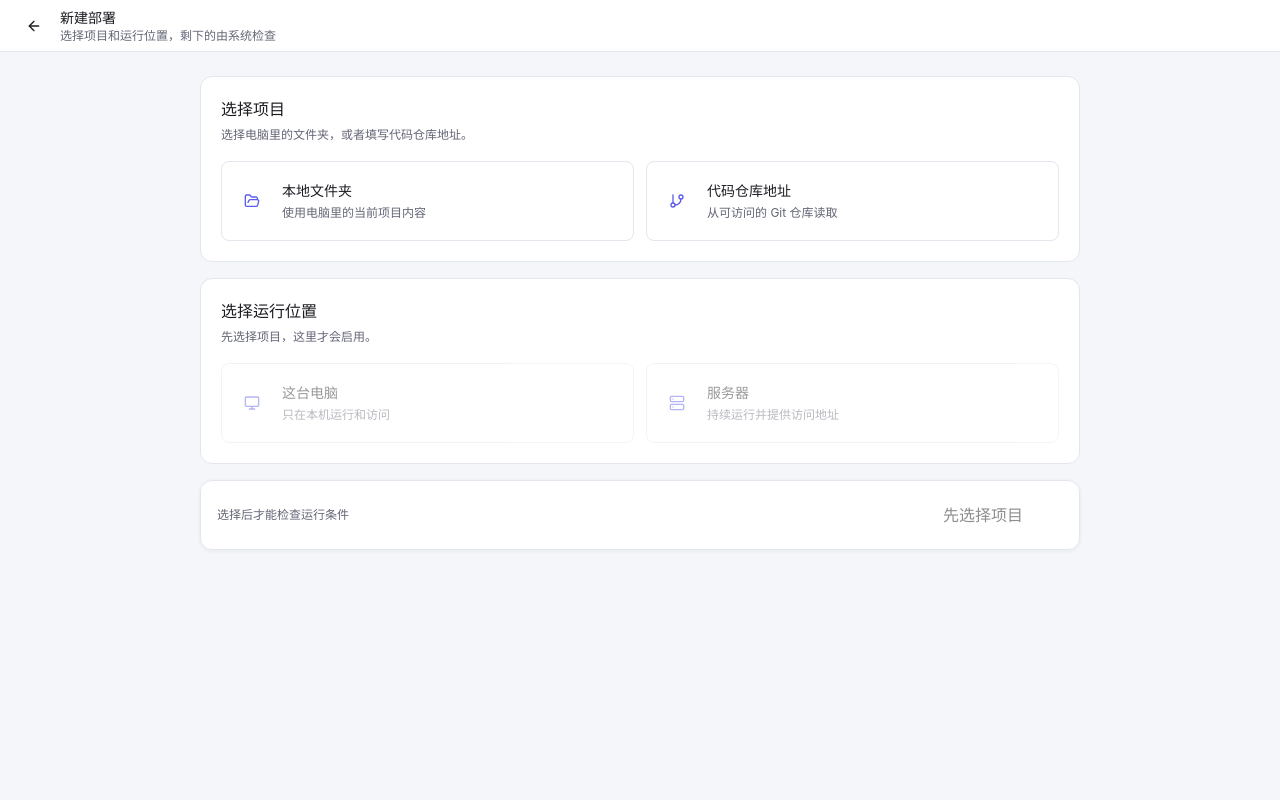
Test: DeploymentEditorController › 服务器只有经过真实环境解析后才允许准备上线任务
Click the button "本地文件夹 使用电脑里的当前项目内容" at (252, 201), box [221,161,634,241]
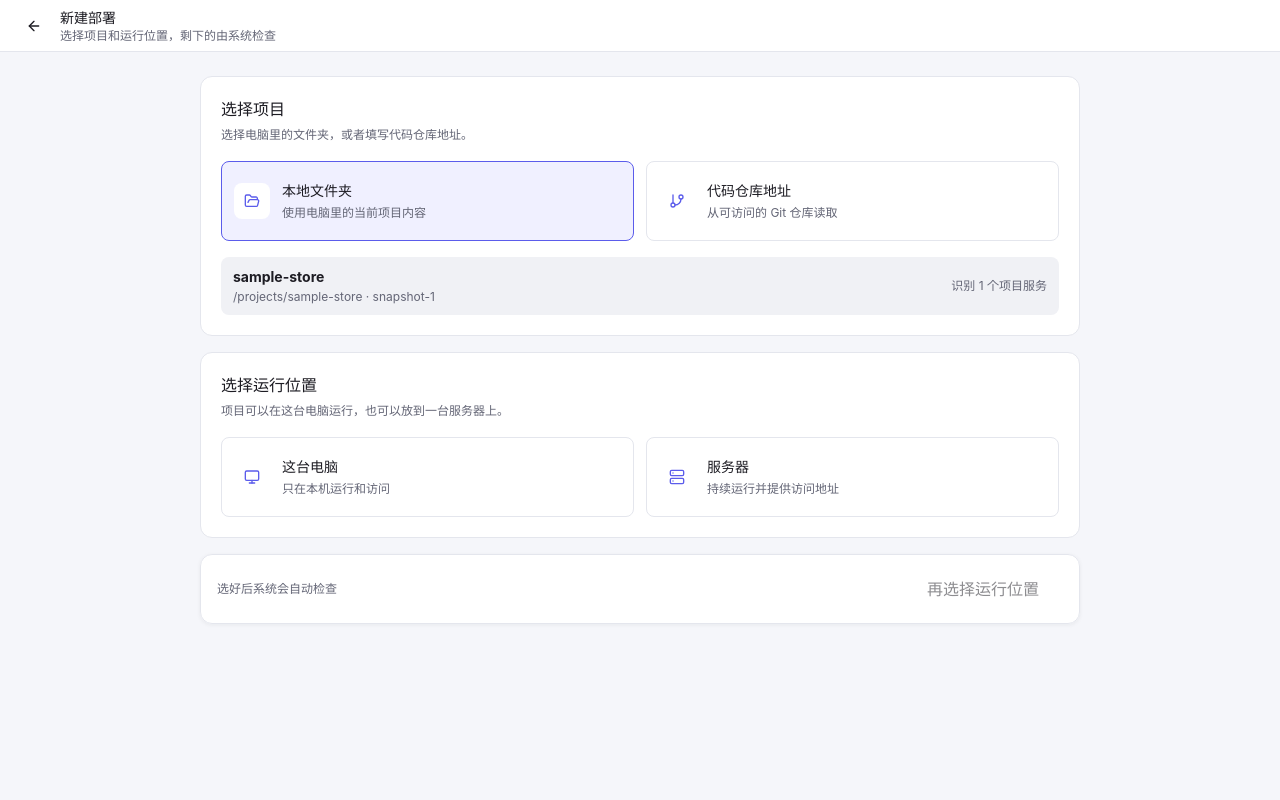
Result: the text "/projects/sample-store" is shown at [233,289,435,304]
Click the button "服务器 持续运行并提供访问地址" at (677, 477), box [646,437,1059,517]
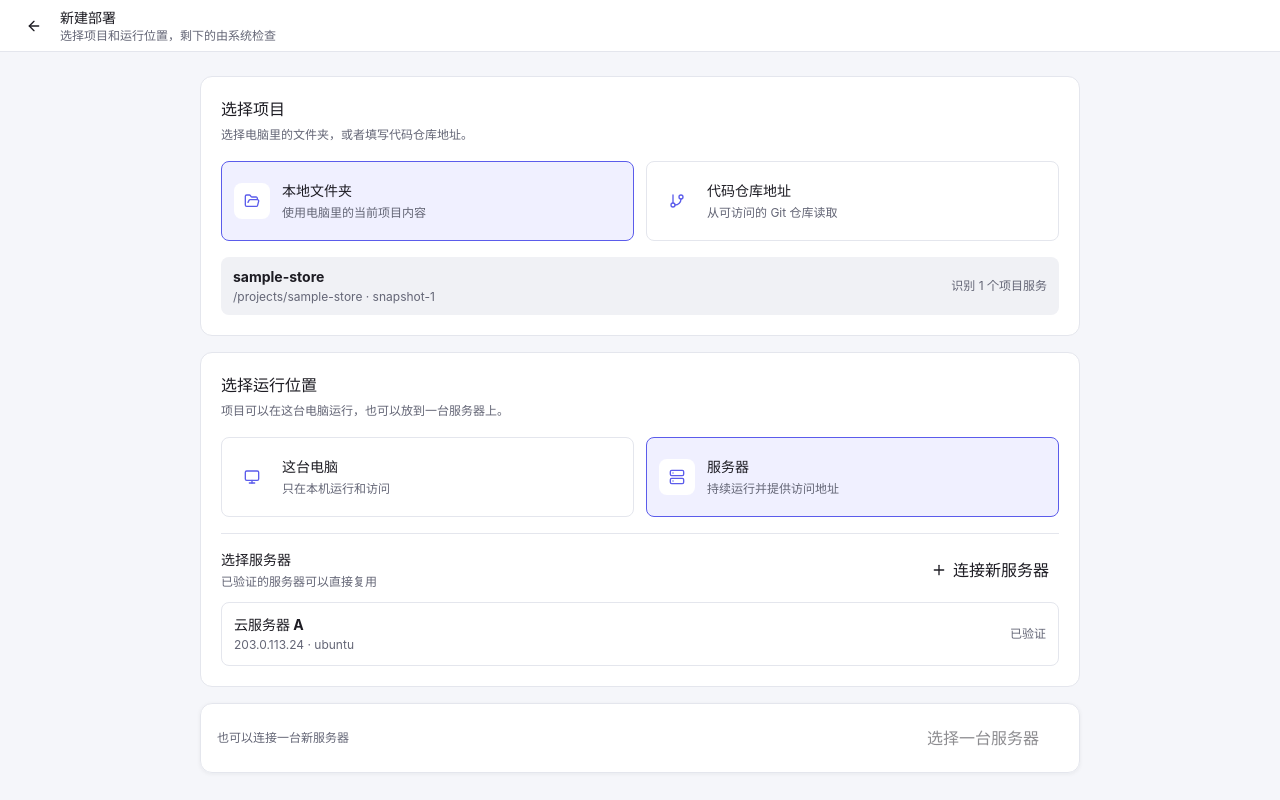
Click the button "云服务器 A 203.0.113.24 · ubuntu 已验证" at (269, 624), box [221,602,1059,666]
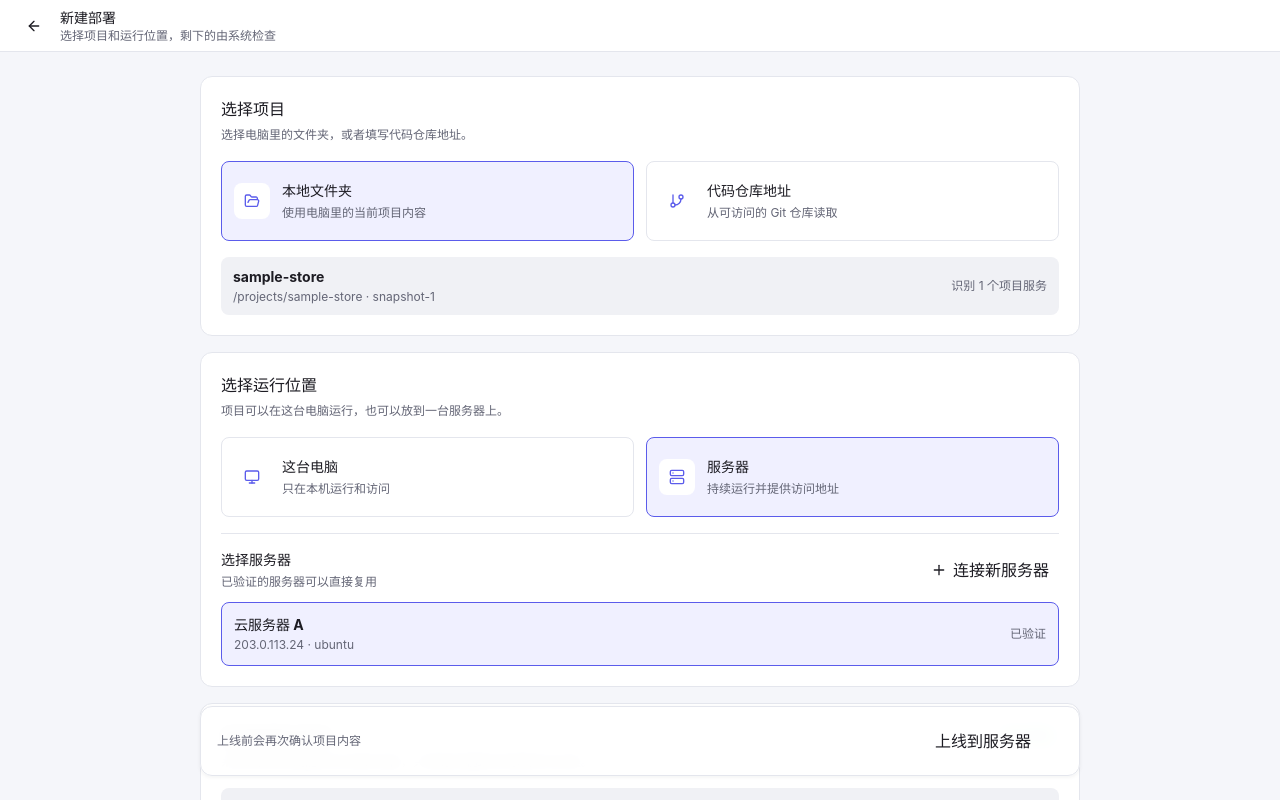
Click the button "上线到服务器" at (983, 741), box [903,723,1063,759]
(page scrolled)
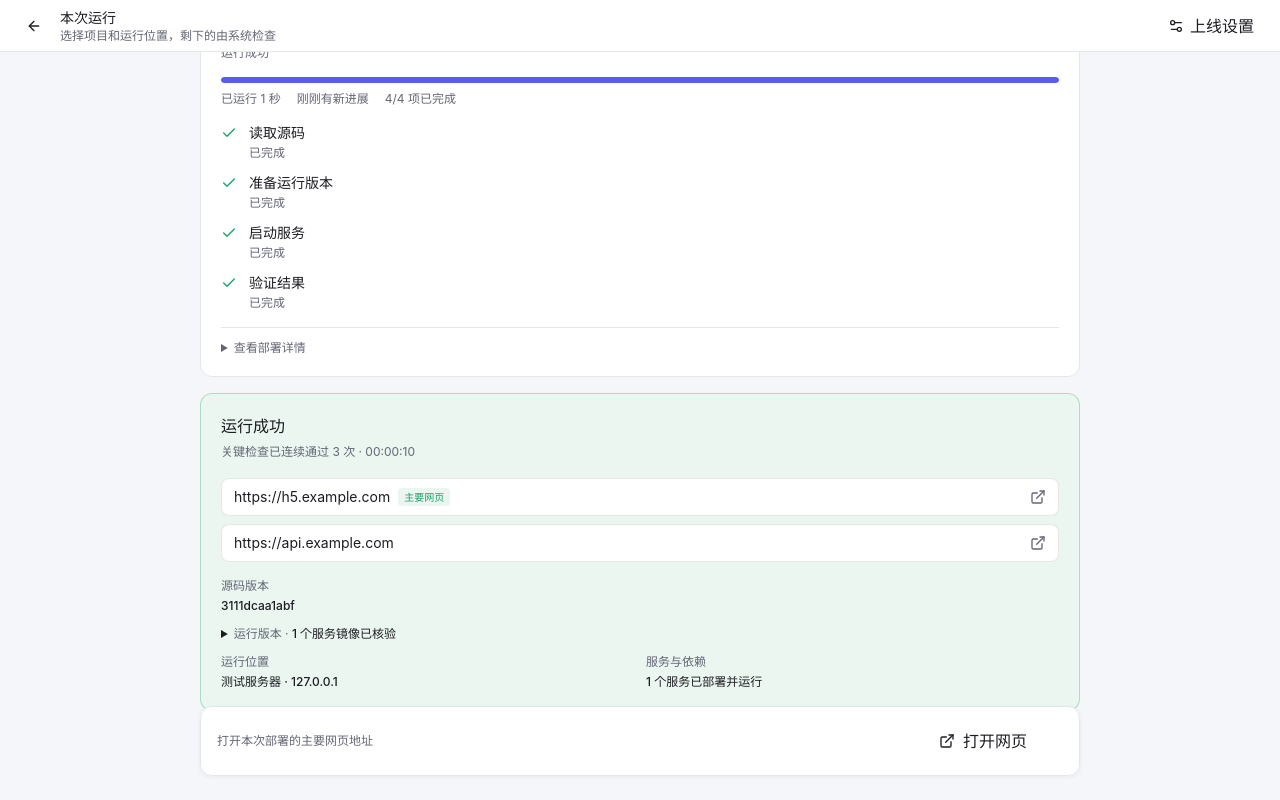
Result: the heading "运行成功" is shown at [221,416,285,436]
